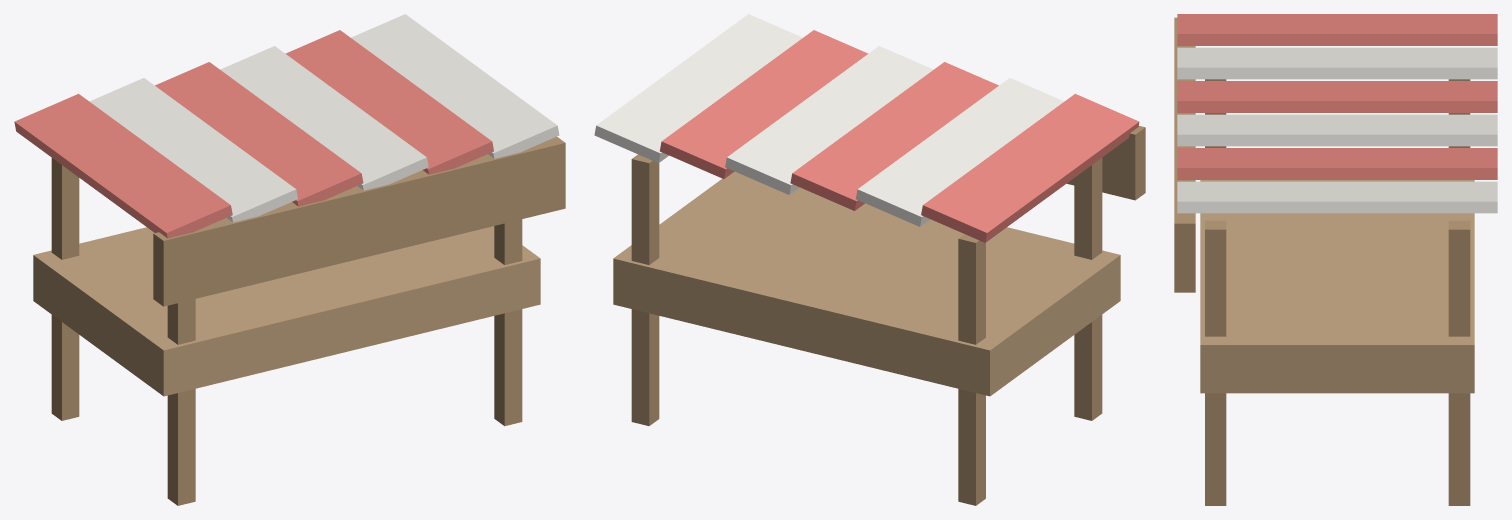
File: gen_market.glb
3 views of the same model, side by side, from view 1: azimuth 30°, elevation 25°; view 2: azimuth 150°, elevation 25°; view 3: azimuth 270°, elevation 25° (orthographic). The views are drawn at different scales.
Parts seen in each view (by area): view 1: Cube.004, Cube.011, Cube.005, Cube.006, Cube.009, Cube.007, Cube.010, Cube.008, Cube.001, Cube.002, Cube; view 2: Cube.004, Cube.005, Cube.008, Cube.006, Cube.007, Cube.009, Cube.010, Cube.003, Cube.001, Cube, Cube.011; view 3: Cube.004, Cube.006, Cube.008, Cube.010, Cube.005, Cube.007, Cube.009, Cube.003, Cube.002, Cube.011.
Part boxes in pixels (x1=…): Cube.004: x1=33, y1=226, x2=540, y2=396; Cube.011: x1=153, y1=136, x2=565, y2=306; Cube.005: x1=14, y1=93, x2=232, y2=238; Cube.006: x1=89, y1=78, x2=297, y2=222; Cube.009: x1=285, y1=30, x2=493, y2=174; Cube.007: x1=155, y1=62, x2=363, y2=206; Cube.010: x1=351, y1=14, x2=559, y2=158; Cube.008: x1=220, y1=46, x2=428, y2=190; Cube.001: x1=51, y1=158, x2=79, y2=420; Cube.002: x1=494, y1=219, x2=522, y2=426; Cube: x1=167, y1=299, x2=195, y2=505; Cube.004: x1=613, y1=171, x2=1120, y2=396; Cube.005: x1=921, y1=93, x2=1139, y2=242; Cube.008: x1=725, y1=46, x2=933, y2=194; Cube.006: x1=856, y1=78, x2=1064, y2=226; Cube.007: x1=790, y1=62, x2=998, y2=210; Cube.009: x1=660, y1=30, x2=867, y2=178; Cube.010: x1=594, y1=14, x2=802, y2=163; Cube.003: x1=631, y1=154, x2=659, y2=425; Cube.001: x1=958, y1=234, x2=985, y2=505; Cube: x1=1074, y1=158, x2=1102, y2=420; Cube.011: x1=1067, y1=126, x2=1145, y2=200; Cube.004: x1=1200, y1=180, x2=1474, y2=393; Cube.006: x1=1177, y1=47, x2=1497, y2=79; Cube.008: x1=1177, y1=114, x2=1497, y2=146; Cube.010: x1=1177, y1=181, x2=1497, y2=213; Cube.005: x1=1177, y1=14, x2=1497, y2=45; Cube.007: x1=1177, y1=81, x2=1497, y2=112; Cube.009: x1=1177, y1=148, x2=1497, y2=179; Cube.003: x1=1448, y1=220, x2=1470, y2=505; Cube.002: x1=1205, y1=220, x2=1226, y2=505; Cube.011: x1=1174, y1=17, x2=1195, y2=292.
Bounding box in the file's own units: 3.2 × 2.29 × 2.12.
